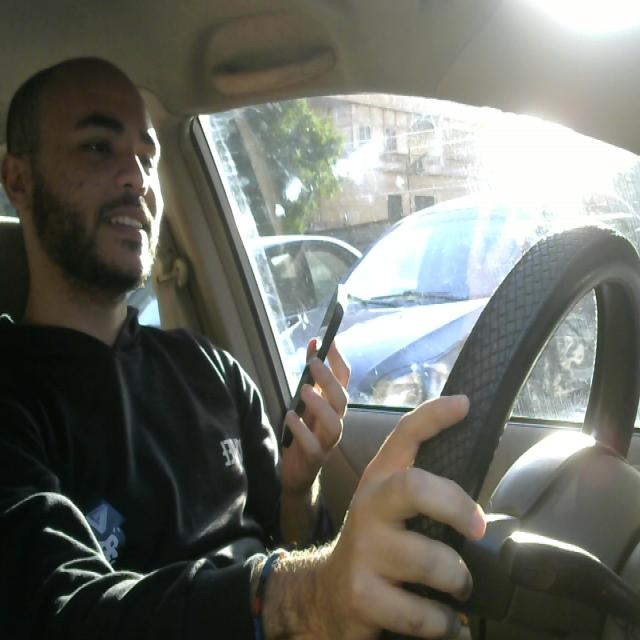mobile use: (276, 278, 347, 458)
